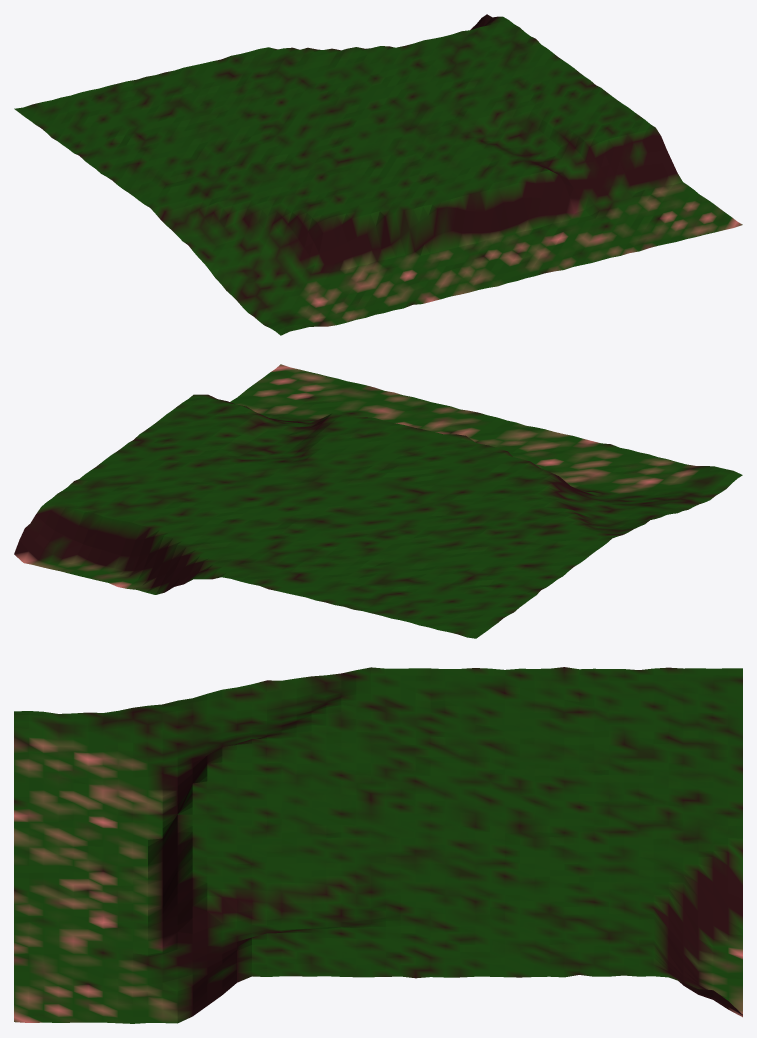
3 renders of one model, top to bottom at view 1: azimuth 30°, elevation 25°; view 2: azimuth 150°, elevation 25°; view 3: azimuth 270°, elevation 25°, orthographic. The views are drawn at different scales.
Parts seen in each view (by area): view 1: heightfield1; view 2: heightfield1; view 3: heightfield1.
Boxes of the visible parts, x1=… form: heightfield1: x1=14, y1=14, x2=742, y2=335; heightfield1: x1=14, y1=364, x2=742, y2=638; heightfield1: x1=14, y1=667, x2=742, y2=1023.
Size of the model in its own units: 998 by 75.83 by 998.
